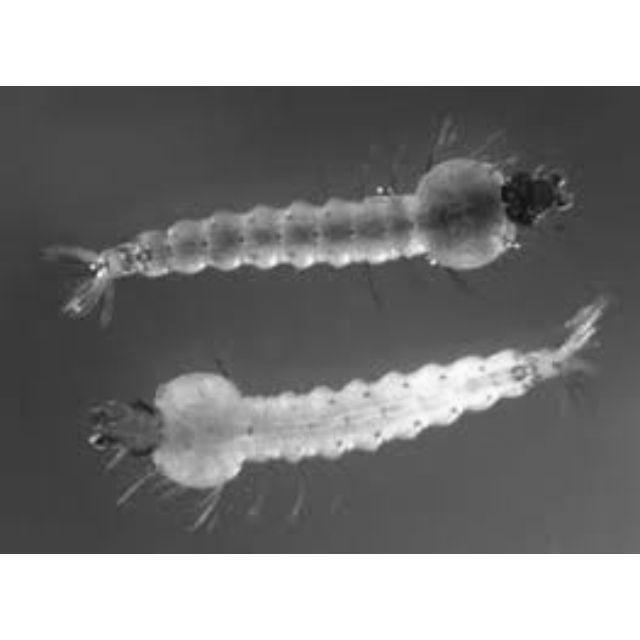larvas: (82, 303, 605, 490), (73, 155, 572, 288)
